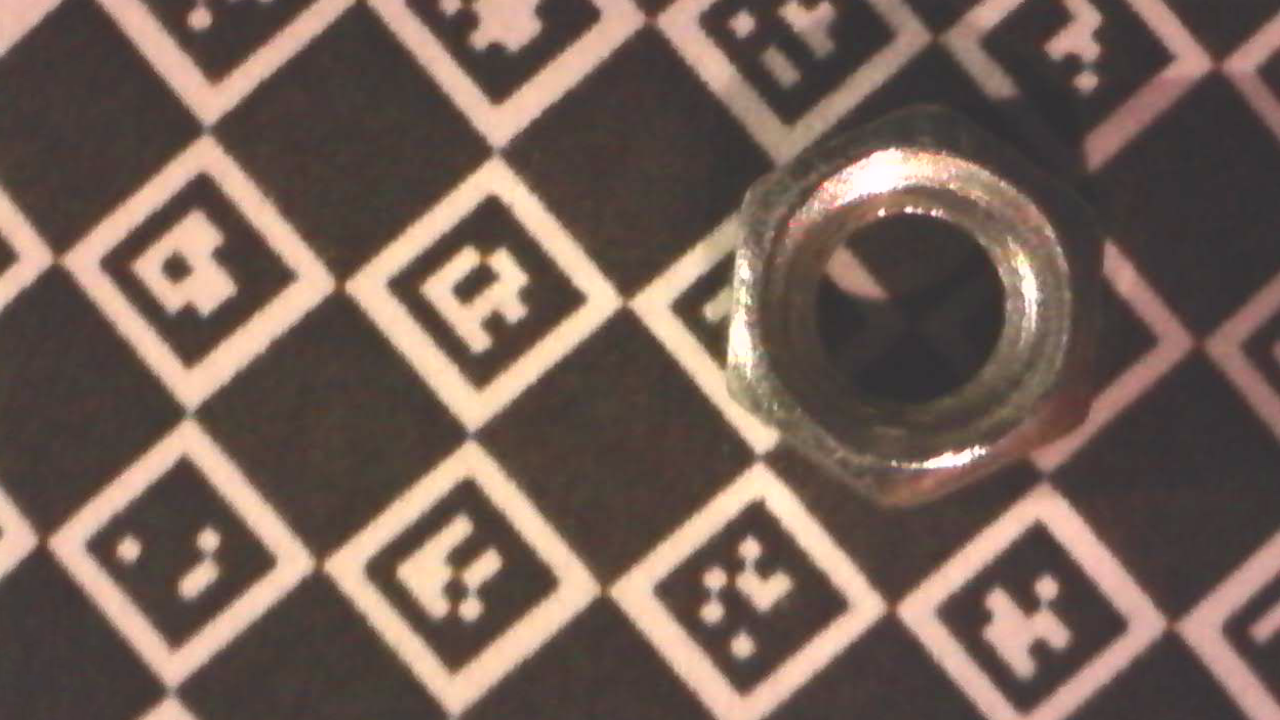Bolt: (726, 99, 1112, 519)
